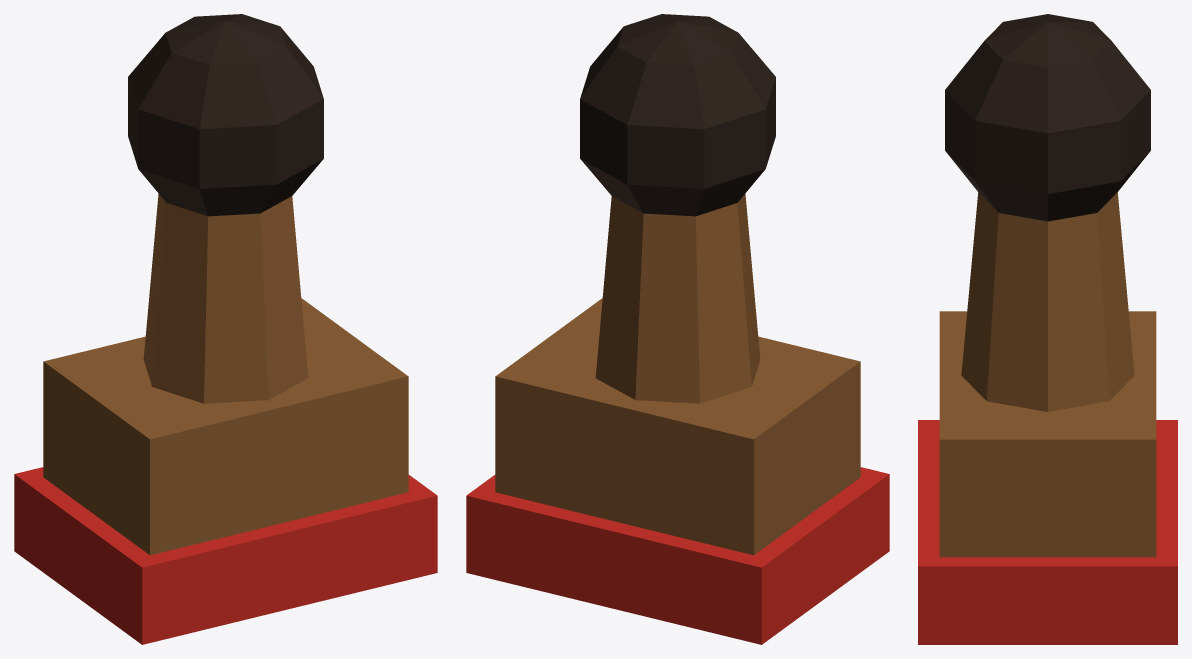
The model's file is paid_stamp.glb.
The picture shows the model from 3 angles, left to right: view 1: azimuth 30°, elevation 25°; view 2: azimuth 150°, elevation 25°; view 3: azimuth 270°, elevation 25°; orthographic projection.
Parts seen in each view (by area): view 1: base_stamp_wood, pad_stamp_red, knob_stamp_knob, handle_stamp_wood; view 2: base_stamp_wood, pad_stamp_red, knob_stamp_knob, handle_stamp_wood; view 3: base_stamp_wood, knob_stamp_knob, handle_stamp_wood, pad_stamp_red.
Boxes of the visible parts, left/top/right/bottom form: base_stamp_wood: left=43, top=298, right=408, bottom=555; pad_stamp_red: left=14, top=467, right=437, bottom=644; knob_stamp_knob: left=128, top=14, right=323, bottom=216; handle_stamp_wood: left=143, top=193, right=308, bottom=403; base_stamp_wood: left=495, top=298, right=860, bottom=555; pad_stamp_red: left=466, top=467, right=889, bottom=644; knob_stamp_knob: left=580, top=14, right=775, bottom=216; handle_stamp_wood: left=595, top=193, right=760, bottom=403; base_stamp_wood: left=939, top=311, right=1156, bottom=557; knob_stamp_knob: left=945, top=14, right=1150, bottom=221; handle_stamp_wood: left=961, top=192, right=1134, bottom=411; pad_stamp_red: left=918, top=420, right=1177, bottom=644.
Size of the model in its own units: 0.08 by 0.14 by 0.06.
